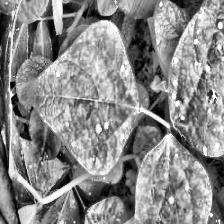Bean Rust: (29, 21, 135, 178), (170, 0, 224, 155), (127, 139, 213, 224), (35, 184, 142, 224)
